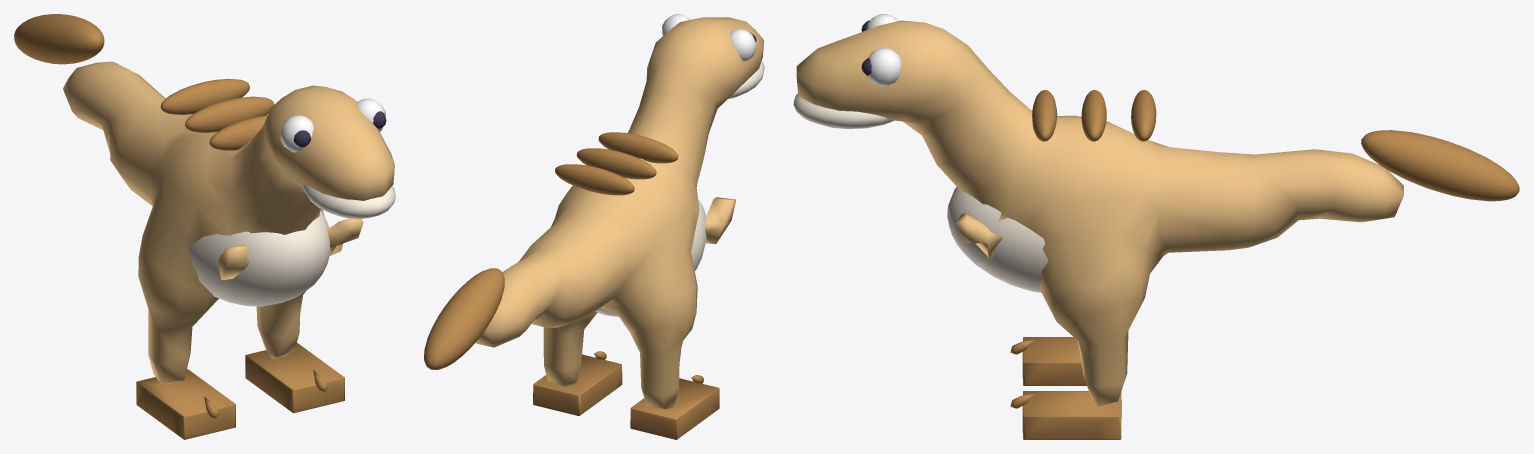
Rendered from Dino_Velociraptor.fbx.
The picture shows the model from 3 angles, left to right: view 1: azimuth 30°, elevation 25°; view 2: azimuth 150°, elevation 25°; view 3: azimuth 270°, elevation 25°; orthographic projection. The views are drawn at different scales.
Visible parts, largest first — view 1: Body, Accent, Belly, EyeWhite, Pupil; view 2: Body, Accent, Belly, EyeWhite; view 3: Body, Accent, Belly, EyeWhite.
Part boxes in pixels (x1,y1,x2,y2): Body: (63, 61, 394, 383); Accent: (14, 14, 344, 439); Belly: (188, 184, 395, 306); EyeWhite: (280, 98, 385, 152); Pupil: (293, 111, 386, 147); Body: (475, 17, 764, 408); Accent: (424, 132, 719, 439); Belly: (595, 61, 764, 316); EyeWhite: (662, 14, 755, 61); Body: (796, 20, 1403, 406); Accent: (1010, 90, 1519, 439); Belly: (793, 93, 1048, 292); EyeWhite: (866, 14, 901, 86).
Bounding box in the file's own units: 1.77 × 3.74 × 6.59.
